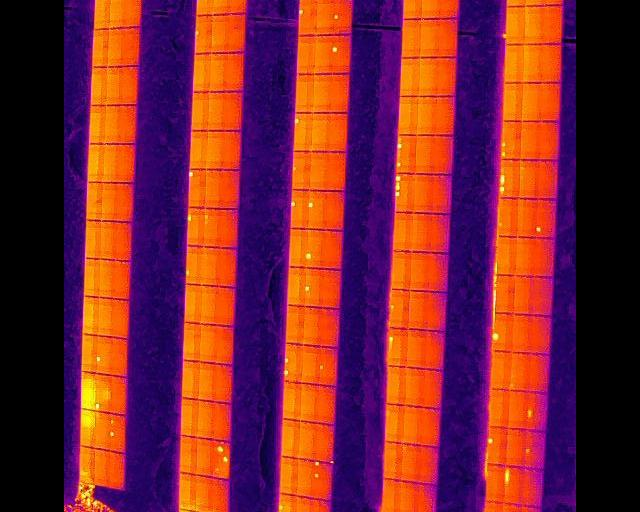Cell: (389, 289, 410, 329), (535, 198, 557, 236), (504, 5, 525, 44), (527, 391, 548, 429), (498, 197, 518, 236), (318, 346, 338, 385), (525, 430, 546, 467), (292, 150, 311, 190), (188, 168, 207, 207), (292, 111, 311, 150), (305, 266, 324, 305), (389, 328, 408, 366), (308, 189, 326, 229), (332, 34, 350, 74), (488, 427, 507, 464), (186, 244, 204, 283), (291, 189, 309, 228), (305, 228, 323, 267), (315, 422, 333, 461), (333, 0, 353, 34), (188, 206, 205, 245), (195, 14, 212, 53), (495, 313, 512, 351), (299, 0, 318, 34), (96, 334, 112, 374), (95, 373, 110, 412), (279, 493, 296, 512)
Cell-Multi: (501, 119, 521, 158), (397, 134, 417, 173), (500, 159, 520, 197), (284, 342, 303, 381), (396, 172, 415, 211), (312, 462, 331, 498), (205, 207, 222, 246), (214, 440, 231, 479), (302, 343, 319, 382), (110, 413, 126, 452), (521, 504, 540, 512)
No-Anomaly: (320, 306, 341, 347), (487, 389, 510, 426), (489, 351, 511, 389), (425, 329, 445, 370), (323, 227, 343, 268), (414, 173, 435, 212), (537, 159, 557, 199), (543, 3, 563, 43), (415, 135, 436, 173), (412, 212, 432, 251), (430, 252, 450, 291), (504, 43, 524, 82), (511, 352, 531, 391), (531, 313, 551, 352), (541, 81, 561, 120), (316, 383, 335, 424), (311, 111, 330, 151), (325, 189, 344, 229), (332, 72, 351, 112), (535, 236, 554, 276), (409, 290, 428, 329), (411, 251, 430, 290), (429, 292, 448, 331), (504, 81, 523, 120), (522, 81, 541, 120), (286, 304, 305, 343), (297, 34, 316, 73), (313, 73, 332, 112), (328, 151, 347, 190), (388, 366, 407, 405), (401, 57, 420, 96), (525, 4, 544, 43), (530, 352, 549, 391), (539, 120, 558, 159), (323, 267, 341, 308), (421, 57, 440, 95), (422, 19, 441, 57), (507, 428, 526, 466), (510, 390, 529, 428), (516, 236, 535, 274), (524, 467, 543, 505), (387, 404, 406, 442), (401, 95, 420, 133), (403, 19, 422, 57), (531, 275, 550, 313), (184, 321, 202, 361), (216, 363, 234, 403), (223, 168, 241, 208), (406, 366, 424, 406), (408, 328, 426, 368), (424, 368, 442, 408), (433, 212, 451, 252), (435, 173, 453, 213), (521, 119, 539, 159), (330, 111, 348, 151), (203, 246, 221, 285), (208, 130, 226, 169), (218, 286, 236, 325), (222, 208, 240, 247), (283, 380, 301, 419), (420, 445, 438, 484), (519, 159, 537, 198), (394, 212, 412, 251), (542, 42, 560, 81), (194, 53, 212, 91), (281, 418, 299, 456), (498, 236, 516, 274), (420, 95, 437, 135), (423, 407, 440, 447), (440, 55, 457, 95), (300, 381, 317, 421), (311, 149, 328, 189), (386, 440, 403, 480), (406, 404, 423, 444), (121, 64, 138, 104), (191, 131, 209, 168), (181, 435, 198, 474), (181, 473, 198, 512), (183, 360, 200, 399), (186, 284, 203, 323), (210, 91, 227, 130), (215, 401, 232, 440), (221, 247, 238, 286), (436, 134, 453, 173), (438, 96, 455, 135), (441, 17, 458, 56), (513, 313, 530, 352), (514, 274, 531, 313), (525, 43, 542, 82), (79, 445, 96, 484), (288, 266, 305, 305), (296, 73, 313, 112), (114, 259, 131, 298), (304, 305, 320, 346), (212, 53, 229, 91), (213, 14, 230, 52), (229, 14, 246, 52), (281, 457, 298, 495), (497, 274, 514, 312), (518, 198, 535, 236), (393, 251, 410, 289), (198, 436, 214, 476), (202, 322, 218, 362), (203, 285, 219, 325), (218, 324, 234, 364), (113, 297, 129, 337), (182, 397, 198, 436), (193, 91, 209, 130), (198, 399, 214, 438), (199, 362, 215, 401), (226, 130, 242, 169), (227, 91, 243, 130), (229, 52, 245, 91), (98, 296, 114, 335), (289, 227, 305, 266), (298, 420, 314, 459), (316, 34, 332, 73), (83, 295, 99, 334), (90, 104, 106, 143), (403, 443, 419, 482), (110, 375, 126, 414), (111, 336, 127, 375), (114, 220, 130, 259), (120, 104, 136, 143), (197, 474, 213, 512), (487, 463, 503, 501), (122, 26, 138, 64), (383, 479, 401, 512), (207, 168, 222, 207), (94, 27, 109, 66), (85, 257, 100, 296), (85, 219, 100, 258), (87, 180, 102, 219), (88, 143, 103, 182), (106, 104, 121, 143), (115, 182, 130, 221), (117, 143, 132, 182), (81, 409, 96, 447), (92, 66, 107, 104), (109, 450, 124, 488), (297, 460, 312, 497), (95, 410, 109, 449), (100, 220, 114, 259), (107, 65, 121, 104), (402, 480, 419, 512), (419, 482, 437, 512), (100, 259, 114, 297), (103, 143, 117, 181), (82, 334, 96, 372), (109, 27, 123, 65), (213, 477, 228, 512), (318, 0, 333, 34), (96, 448, 109, 486), (101, 182, 114, 220), (82, 372, 95, 410), (95, 0, 110, 28), (124, 0, 139, 27), (111, 0, 124, 28), (403, 0, 422, 19), (423, 0, 442, 18), (441, 0, 460, 17), (311, 498, 330, 512), (296, 495, 311, 512), (198, 0, 214, 15), (215, 0, 231, 14), (485, 500, 503, 512), (231, 0, 246, 14), (502, 502, 520, 512)
Unclassified: (504, 466, 524, 503)
